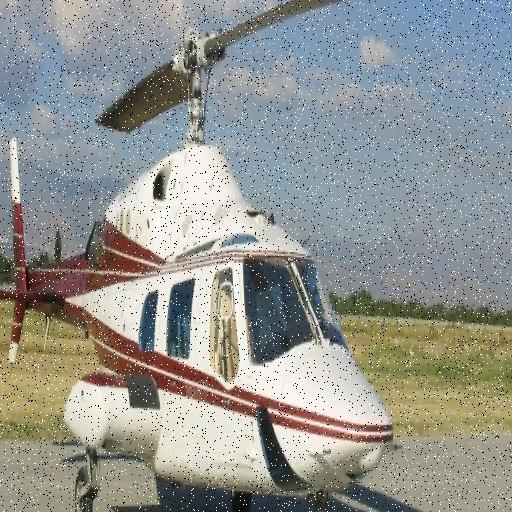helicopter: (1, 1, 447, 512)
